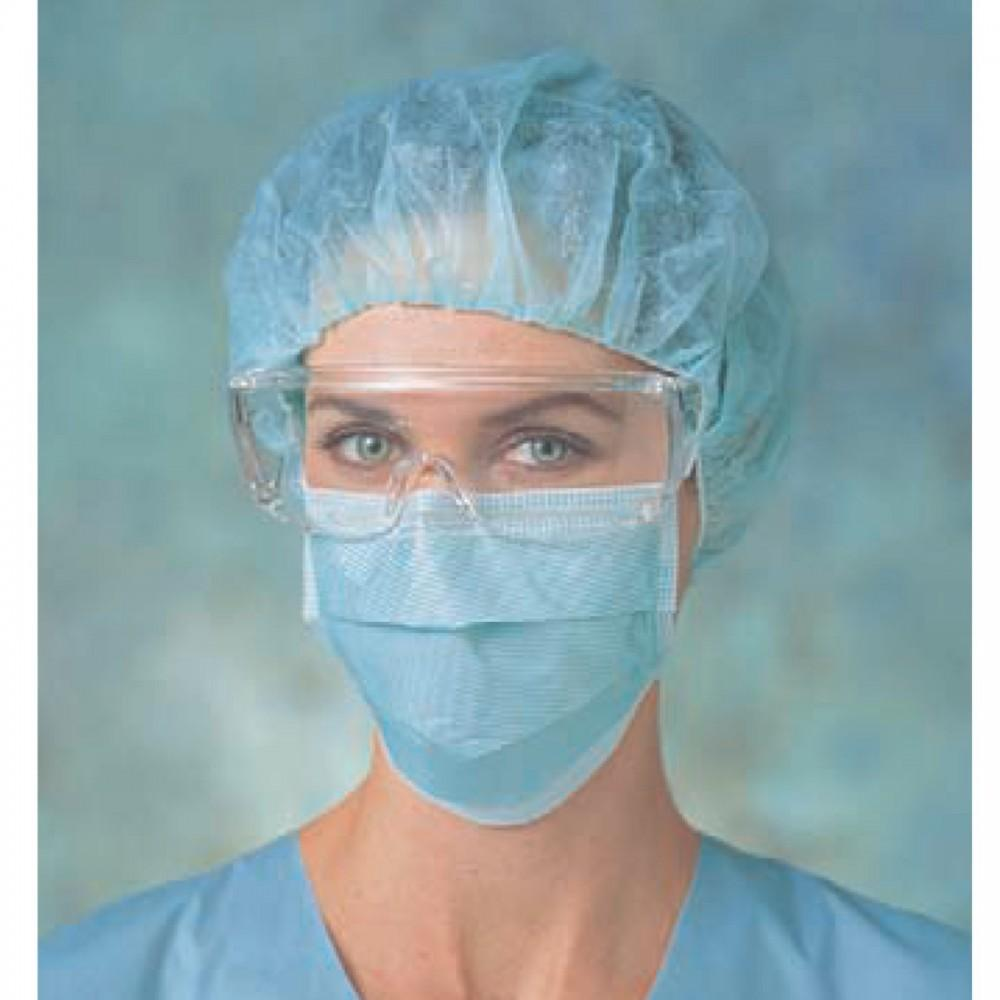Wearing Mask: (165, 58, 828, 970)
